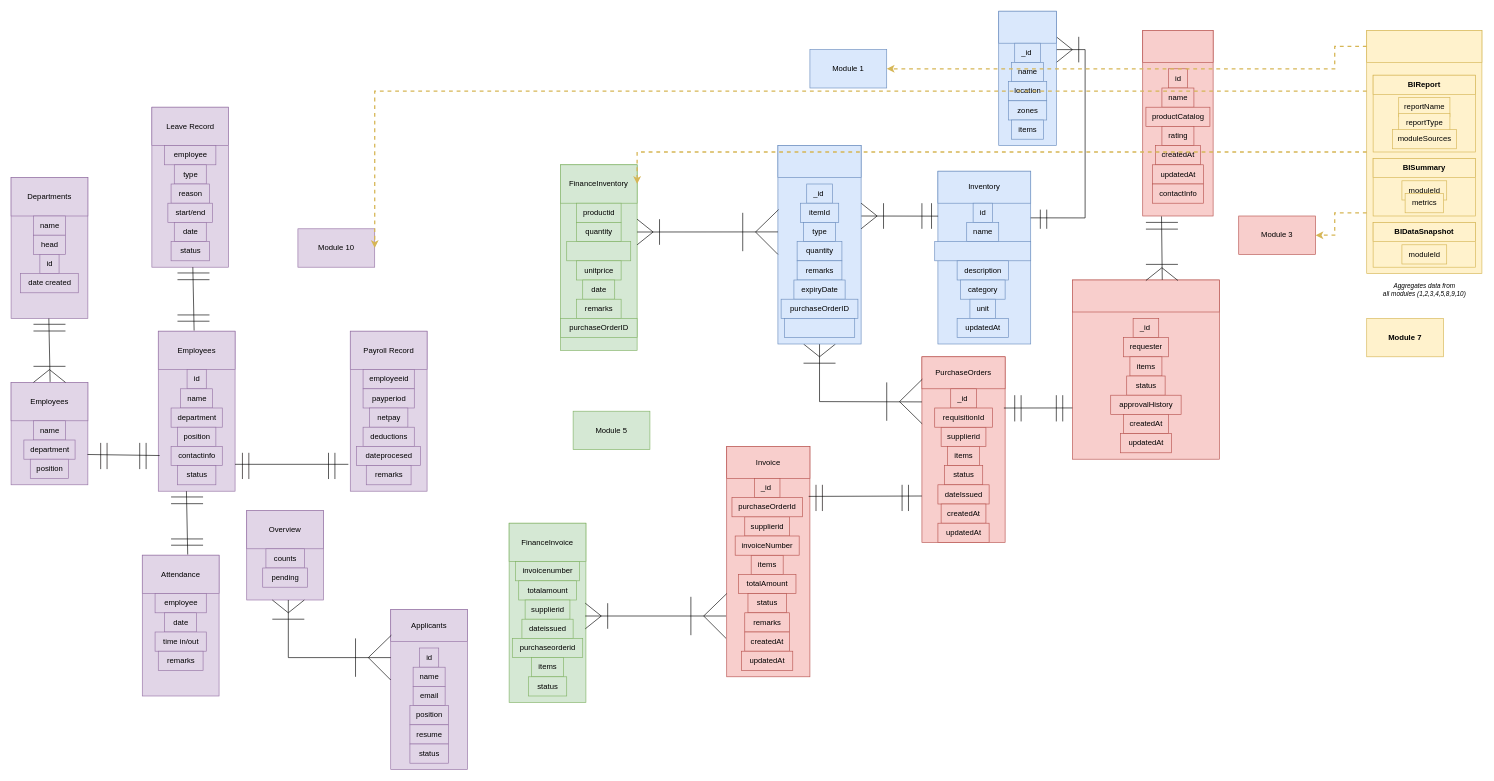
This 1494x781 diagram has some shape labels left out. Each missing label, with the centre of its shape:
"Module 7 - BI/Analytics" goes at (x=1424, y=46).
"Requisitions" goes at (x=1146, y=295).
"sku (stock keeping unit)" goes at (x=982, y=251).
"Suppliers" goes at (x=1177, y=46).
"Transaction" goes at (x=819, y=161).
"transactionDate" goes at (x=819, y=328).
"transactiontype" goes at (x=598, y=251).
"Warehouse" goes at (x=1027, y=27).
